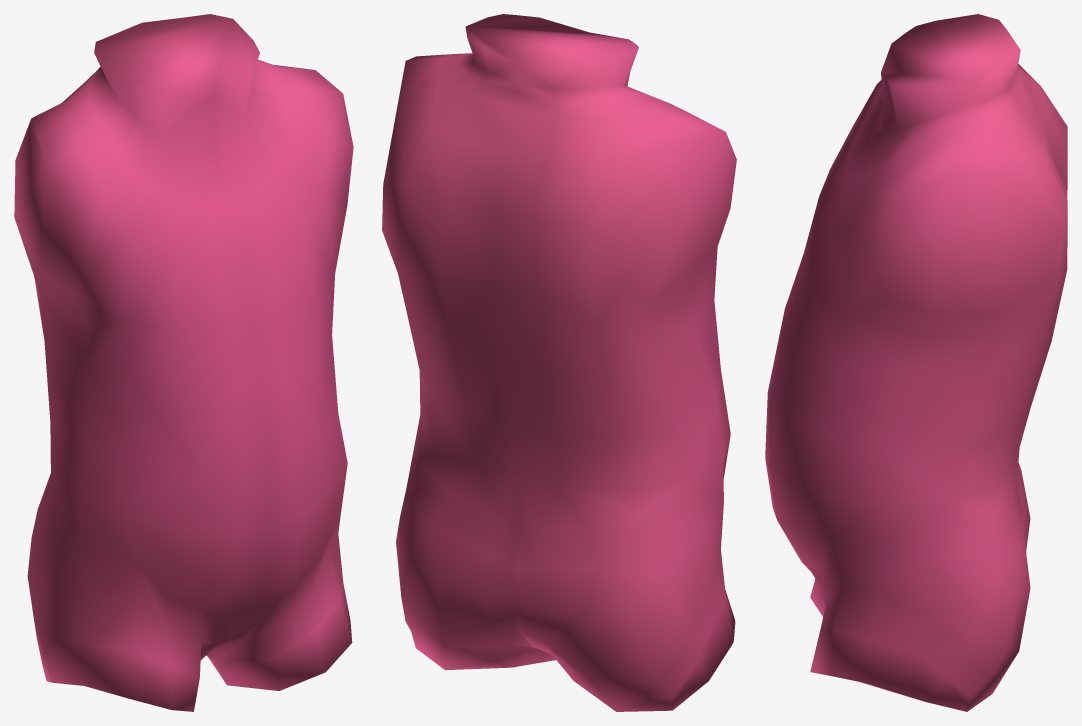
File: bodyEnemy.fbx
3 renders of one model, left to right at view 1: azimuth 30°, elevation 25°; view 2: azimuth 150°, elevation 25°; view 3: azimuth 270°, elevation 25°, orthographic. The views are drawn at different scales.
Visible parts, largest first — view 1: Stickman_heads_sphere.001; view 2: Stickman_heads_sphere.001; view 3: Stickman_heads_sphere.001.
Part boxes in pixels (<box>): Stickman_heads_sphere.001: <box>14,14,353,711</box>; Stickman_heads_sphere.001: <box>382,14,736,711</box>; Stickman_heads_sphere.001: <box>765,14,1067,711</box>.
Size of the model in its own units: 0.4037 by 0.8137 by 0.3612.
Materials: 1 (1 with a texture image).
